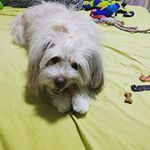puppy: (4, 2, 113, 120)
